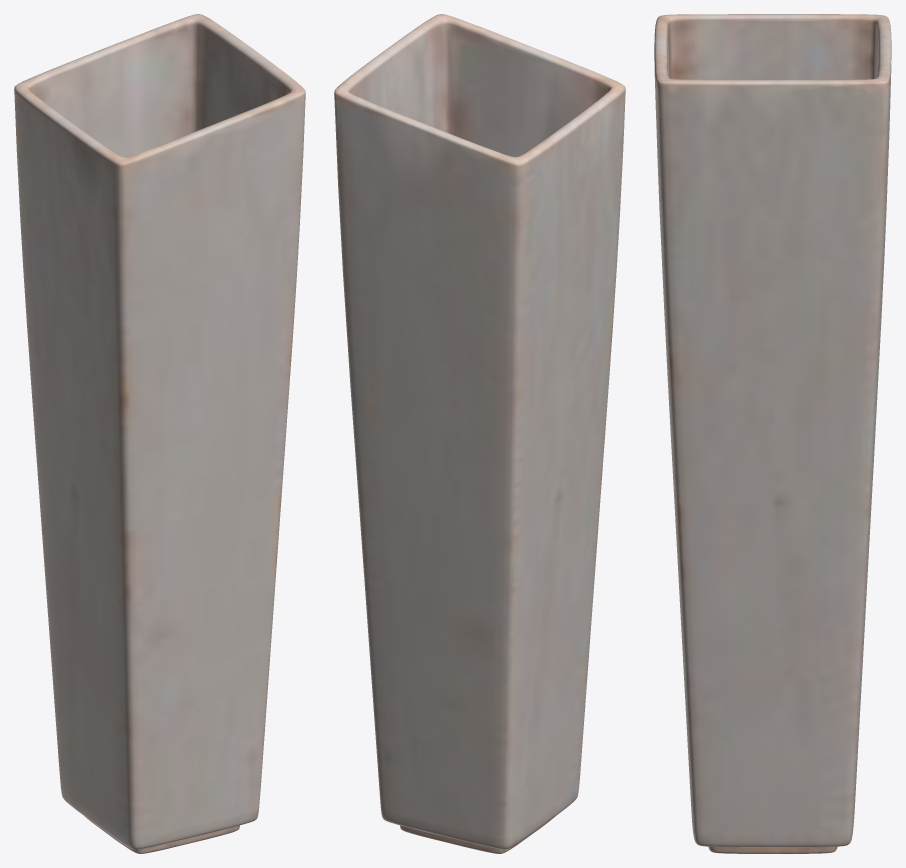
The model's file is vase-ceramic-03.lite.710bd0b3.glb.
3 views of the same model, side by side, from view 1: azimuth 30°, elevation 25°; view 2: azimuth 150°, elevation 25°; view 3: azimuth 270°, elevation 25° (orthographic). The views are drawn at different scales.
Parts seen in each view (by area): view 1: model; view 2: model; view 3: model.
Part boxes in pixels (x1,y1,x2,y2): model: (14,14,305,853); model: (334,14,625,853); model: (654,14,891,853).
Bounding box in the file's own units: 0.1122 × 0.4144 × 0.1122.
1 material, 1 textured.
